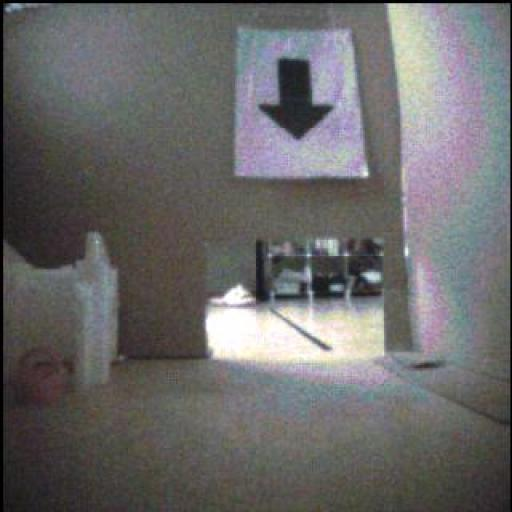arrow: (260, 60, 334, 140)
